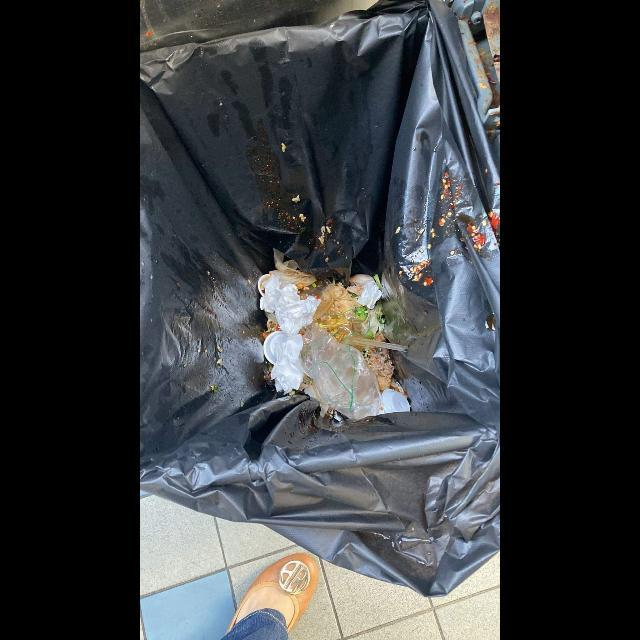paper: (258, 273, 322, 336), (271, 334, 305, 395)
plastic_bag: (301, 325, 382, 421)
